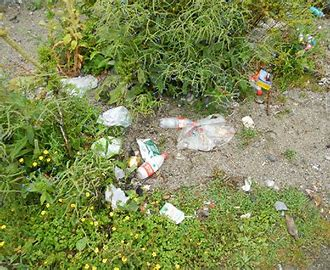garbage: (154, 108, 262, 151), (127, 134, 180, 179), (94, 165, 143, 209), (248, 60, 294, 103), (55, 69, 107, 103), (88, 103, 140, 132), (91, 131, 128, 162), (155, 196, 194, 222), (295, 26, 324, 58), (300, 1, 328, 24)
